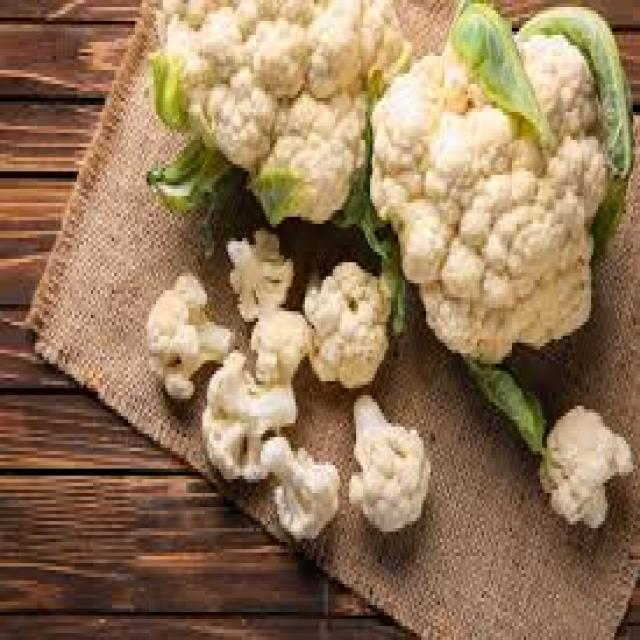organic waste: (358, 0, 631, 357), (144, 0, 410, 252), (300, 248, 391, 388), (535, 399, 631, 528), (200, 346, 293, 479), (347, 388, 428, 532), (142, 269, 230, 399), (258, 430, 335, 539), (468, 353, 542, 455), (223, 224, 291, 322), (249, 308, 303, 378)
